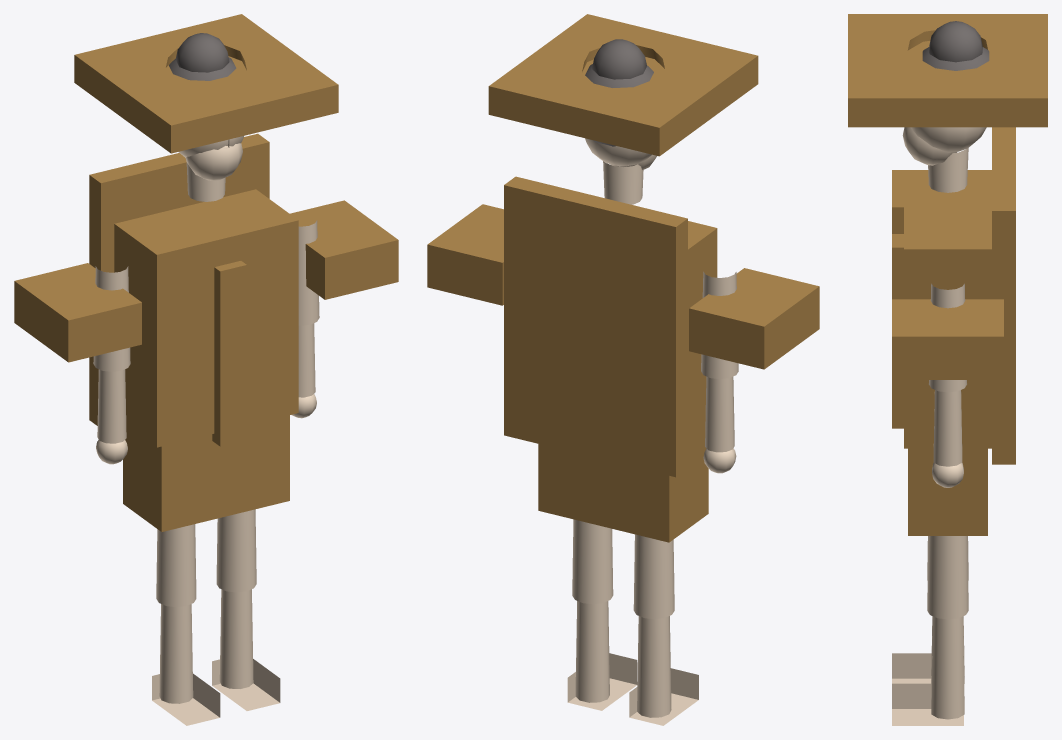
File: body.glb
The picture shows the model from 3 angles, left to right: view 1: azimuth 30°, elevation 25°; view 2: azimuth 150°, elevation 25°; view 3: azimuth 270°, elevation 25°; orthographic projection. The views are drawn at different scales.
Parts seen in each view (by area): view 1: Cloth, Skin, Hair; view 2: Cloth, Skin, Hair; view 3: Cloth, Skin, Hair.
Part boxes in pixels (x1,y1,x2,y2): Cloth: (14, 14, 398, 531); Skin: (93, 136, 319, 725); Hair: (169, 33, 236, 80); Cloth: (427, 14, 819, 542); Skin: (567, 138, 738, 725); Hair: (585, 39, 653, 146); Cloth: (848, 14, 1047, 535); Skin: (892, 127, 986, 725); Hair: (922, 21, 989, 70).
Bounding box in the file's own units: 0.986 × 1.87 × 0.5.
